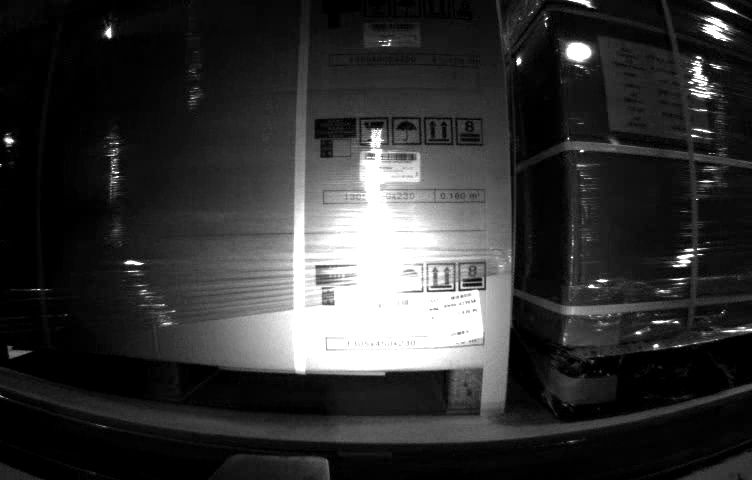True Barcode: (426, 287, 488, 347)
